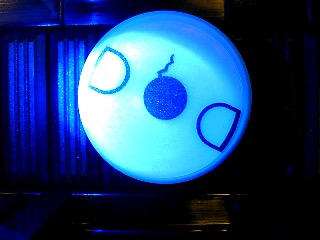CRACK: (77, 10, 253, 185)
